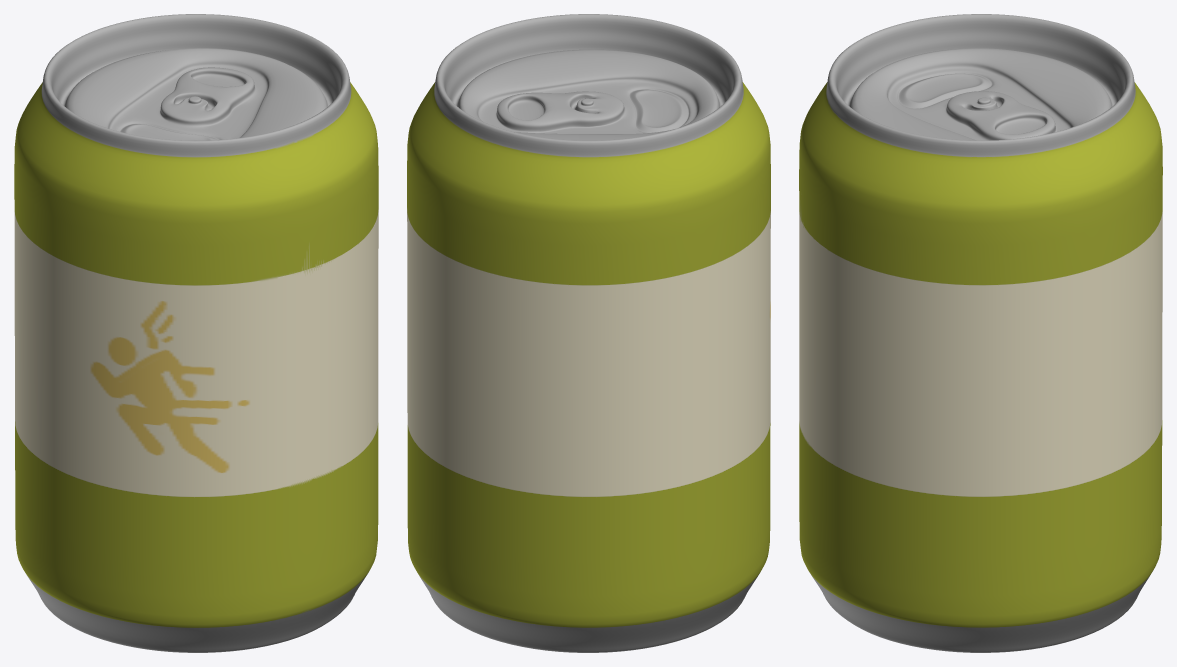
Rendered from SodaCan.fbx.
3 renders of one model, left to right at view 1: azimuth 30°, elevation 25°; view 2: azimuth 150°, elevation 25°; view 3: azimuth 270°, elevation 25°, orthographic.
Visible parts, largest first — view 1: midterm:Soda; view 2: midterm:Soda; view 3: midterm:Soda.
Part boxes in pixels (x1,y1,x2,y2): midterm:Soda: [14, 14, 378, 652]; midterm:Soda: [407, 14, 770, 652]; midterm:Soda: [799, 14, 1162, 652].
Size of the model in its own units: 3.02 by 4.68 by 3.02.
